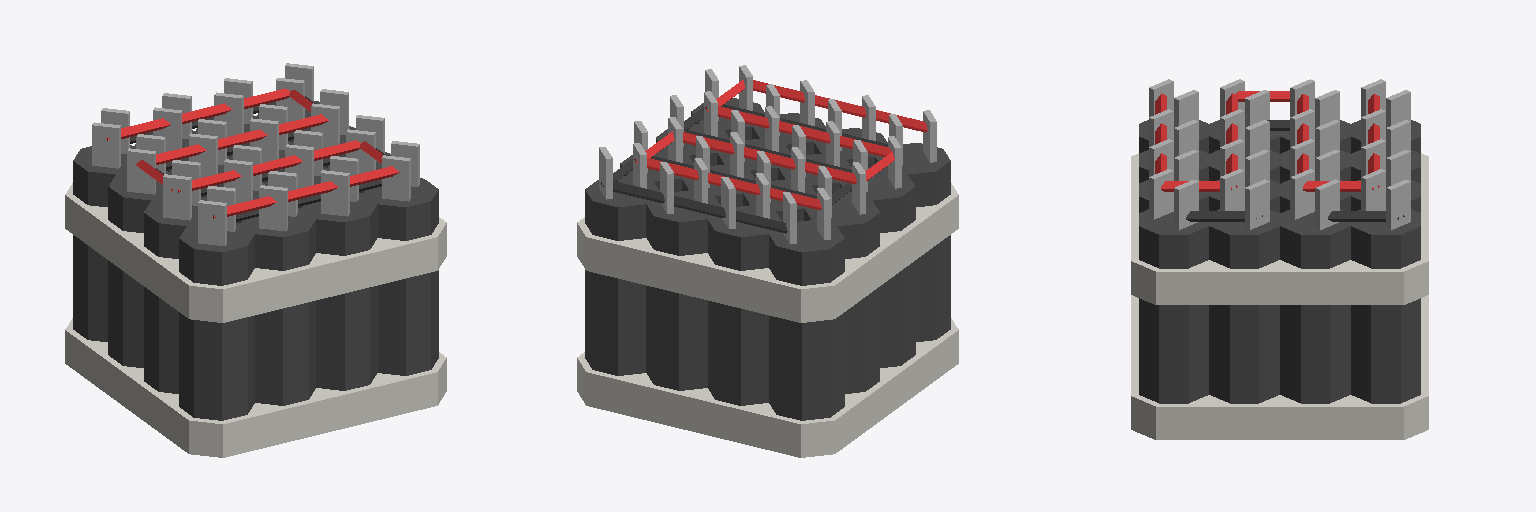
File: final_capacitor_bank.obj
3 views of the same model, side by side, from view 1: azimuth 30°, elevation 25°; view 2: azimuth 150°, elevation 25°; view 3: azimuth 270°, elevation 25° (orthographic).
Visible parts, largest first — view 1: object_23, object_25, object_24, object_13, object_12, object_14, object_7, object_3, object_11, object_21, object_30, object_29 (+28 smaller); view 2: object_23, object_25, object_3, object_1, object_64, object_2, object_7, object_11, object_24, object_28, object_21, object_31 (+28 smaller); view 3: object_23, object_25, object_4, object_12, object_8, object_64, object_47, object_63, object_55, object_54, object_39, object_38 (+28 smaller).
Boxes of the visible parts, box(x1,y1,x2,y2) form: object_23: box(65, 183, 446, 322); object_25: box(65, 318, 446, 457); object_24: box(179, 223, 254, 420); object_13: box(302, 193, 377, 390); object_12: box(363, 178, 438, 375); object_14: box(241, 208, 315, 405); object_7: box(108, 171, 171, 367); object_3: box(73, 145, 135, 341); object_11: box(144, 197, 206, 393); object_21: box(213, 166, 399, 218); object_30: box(156, 114, 328, 164); object_29: box(178, 140, 360, 192); object_23: box(577, 183, 958, 322); object_25: box(577, 318, 958, 457); object_3: box(769, 220, 844, 420); object_1: box(646, 190, 720, 390); object_64: box(585, 175, 659, 375); object_2: box(708, 205, 781, 405); object_7: box(804, 194, 879, 393); object_11: box(840, 169, 915, 367); object_24: box(875, 143, 950, 341); object_28: box(602, 181, 787, 233); object_21: box(753, 80, 927, 132); object_31: box(636, 158, 821, 209); object_23: box(1131, 153, 1428, 304); object_25: box(1131, 295, 1428, 439); object_4: box(1280, 209, 1350, 403); object_12: box(1139, 209, 1208, 403); object_8: box(1209, 209, 1279, 403); object_64: box(1351, 209, 1420, 403); object_47: box(1245, 179, 1269, 229); object_63: box(1386, 180, 1410, 229); object_55: box(1315, 179, 1339, 229); object_54: box(1290, 169, 1314, 219); object_39: box(1174, 180, 1198, 229); object_38: box(1149, 169, 1173, 219).
Bounding box in the file's own units: 1 × 0.9 × 1.